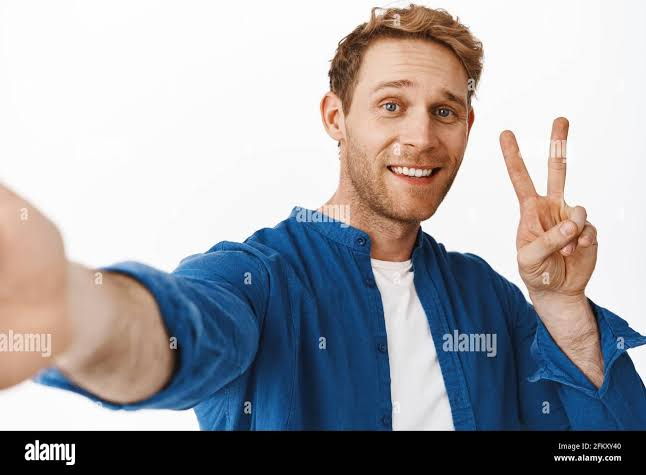peace_sign: (494, 115, 600, 307)
